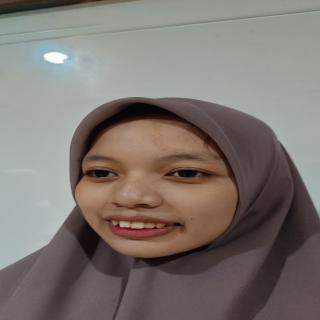Senang: (68, 108, 254, 265)
